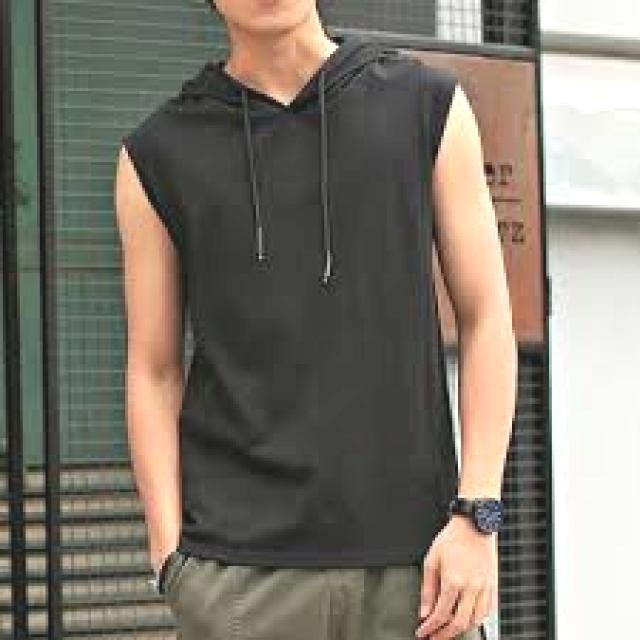no_vest: (122, 33, 459, 568)
